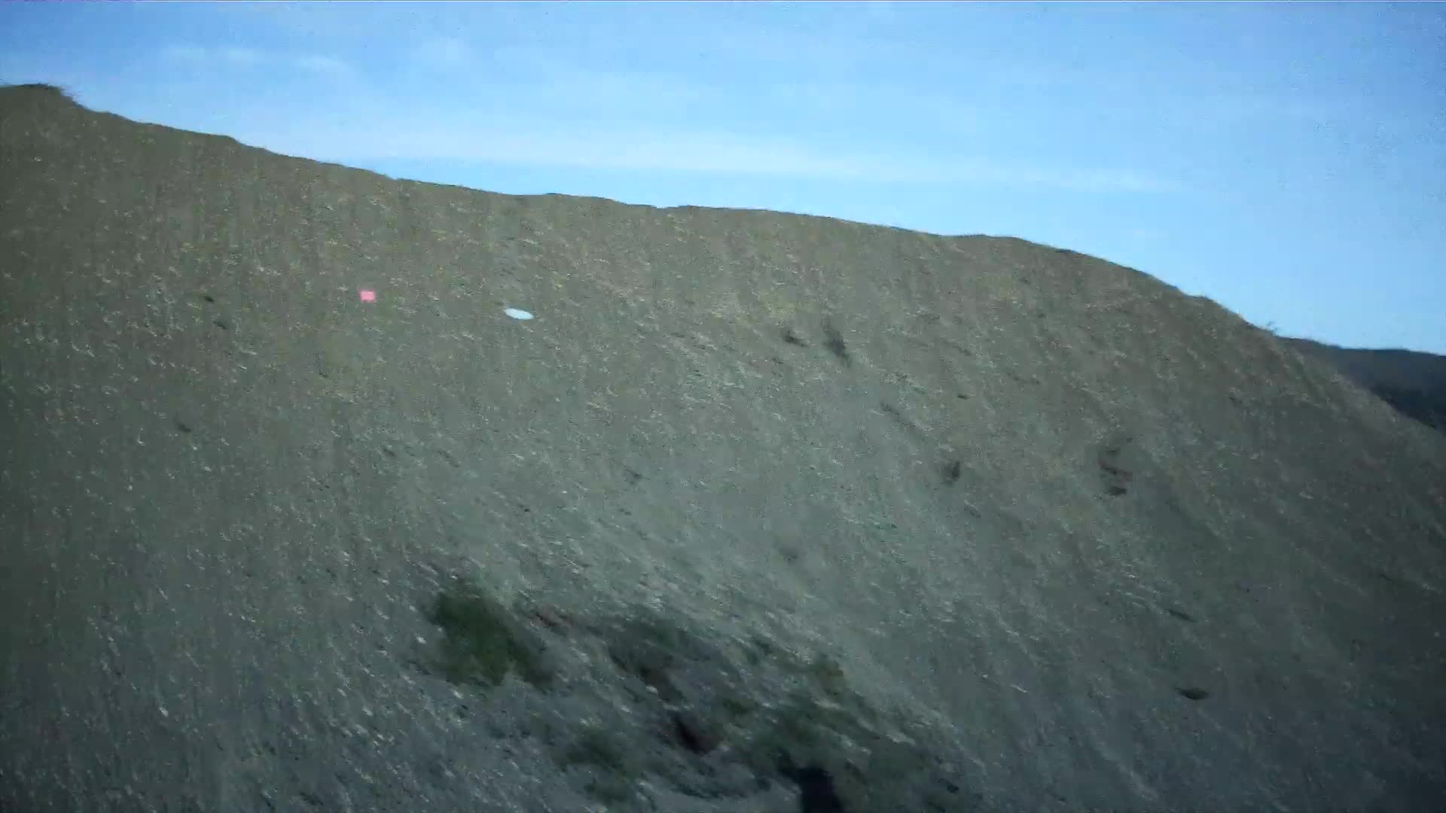Target: (504, 304, 534, 321)
